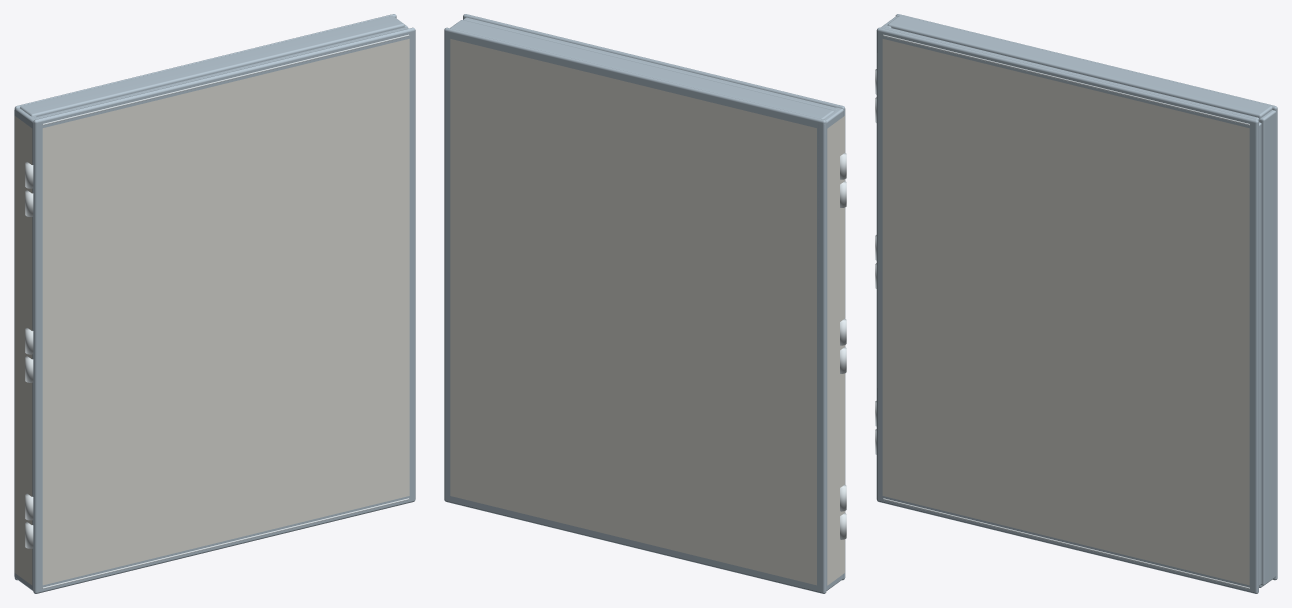
File: ps3-case.glb
3 views of the same model, side by side, from view 1: azimuth 30°, elevation 25°; view 2: azimuth 150°, elevation 25°; view 3: azimuth 330°, elevation 25° (orthographic).
Visible parts, largest first — view 1: Case_Front, Lid_ps3 injection moulded polypropylene, Case_Spine, Base_ps3 injection moulded polypropylene, Lid_ps3 polished moulded edges, Base_ps3 polished moulded edges; view 2: Case_Back, Base_ps3 injection moulded polypropylene, Case_Spine, Lid_ps3 injection moulded polypropylene, Lid_ps3 polished moulded edges, Base_ps3 polished moulded edges; view 3: Case_Front, Lid_ps3 injection moulded polypropylene, Base_ps3 injection moulded polypropylene, Lid_ps3 polished moulded edges.
Boxes of the visible parts, x1=… form: Case_Front: x1=42, y1=39, x2=409, y2=585; Lid_ps3 injection moulded polypropylene: x1=33, y1=27, x2=415, y2=593; Case_Spine: x1=14, y1=116, x2=32, y2=585; Base_ps3 injection moulded polypropylene: x1=14, y1=14, x2=407, y2=590; Lid_ps3 polished moulded edges: x1=25, y1=34, x2=409, y2=588; Base_ps3 polished moulded edges: x1=25, y1=190, x2=33, y2=548; Case_Back: x1=450, y1=39, x2=816, y2=585; Base_ps3 injection moulded polypropylene: x1=444, y1=20, x2=843, y2=593; Case_Spine: x1=827, y1=116, x2=844, y2=585; Lid_ps3 injection moulded polypropylene: x1=463, y1=14, x2=845, y2=580; Lid_ps3 polished moulded edges: x1=840, y1=153, x2=846, y2=511; Base_ps3 polished moulded edges: x1=840, y1=181, x2=846, y2=539; Case_Front: x1=882, y1=39, x2=1249, y2=585; Lid_ps3 injection moulded polypropylene: x1=876, y1=27, x2=1261, y2=593; Base_ps3 injection moulded polypropylene: x1=880, y1=14, x2=1277, y2=587; Lid_ps3 polished moulded edges: x1=875, y1=34, x2=1249, y2=588.
Bounding box in the file's own units: 1.57 × 1.84 × 0.156.
